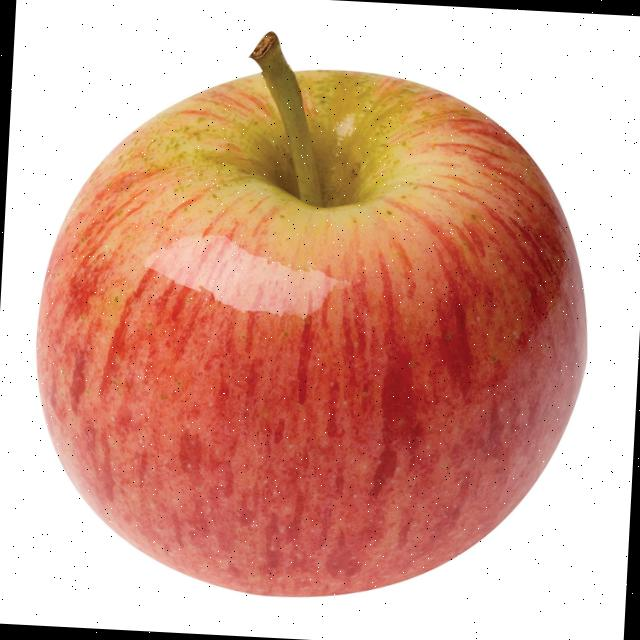Apel: (23, 19, 604, 614)
